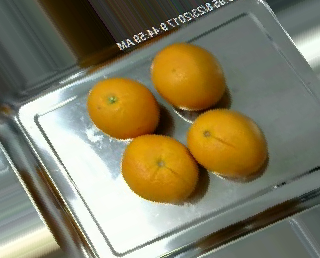Orange: (185, 109, 269, 178), (119, 134, 196, 204), (150, 43, 225, 112), (85, 78, 158, 139)
